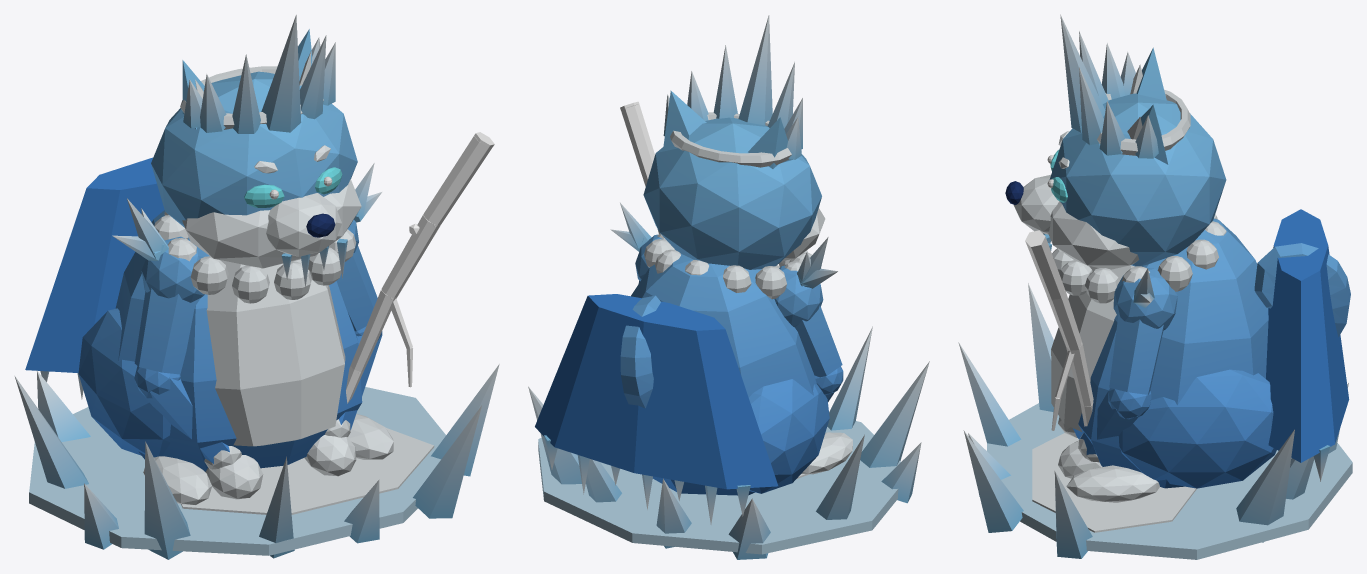
Rendered from FrostShiba.fbx.
3 views of the same model, side by side, from view 1: azimuth 30°, elevation 25°; view 2: azimuth 150°, elevation 25°; view 3: azimuth 270°, elevation 25° (orthographic). The views are drawn at different scales.
Visible parts, largest first — view 1: Body, Stick, ThrowArm; view 2: Body, Stick, ThrowArm; view 3: Body, ThrowArm, Stick.
Part boxes in pixels (x1=…): Body: x1=14, y1=15, x2=499, y2=559; Stick: x1=346, y1=132, x2=494, y2=403; ThrowArm: x1=304, y1=163, x2=382, y2=476; Body: x1=528, y1=15, x2=929, y2=559; Stick: x1=620, y1=101, x2=659, y2=233; ThrowArm: x1=610, y1=202, x2=665, y2=283; Body: x1=958, y1=14, x2=1352, y2=559; ThrowArm: x1=1058, y1=268, x2=1177, y2=478; Stick: x1=1025, y1=230, x2=1093, y2=430.
Size of the model in its own units: 1.29 by 1.57 by 1.21.
